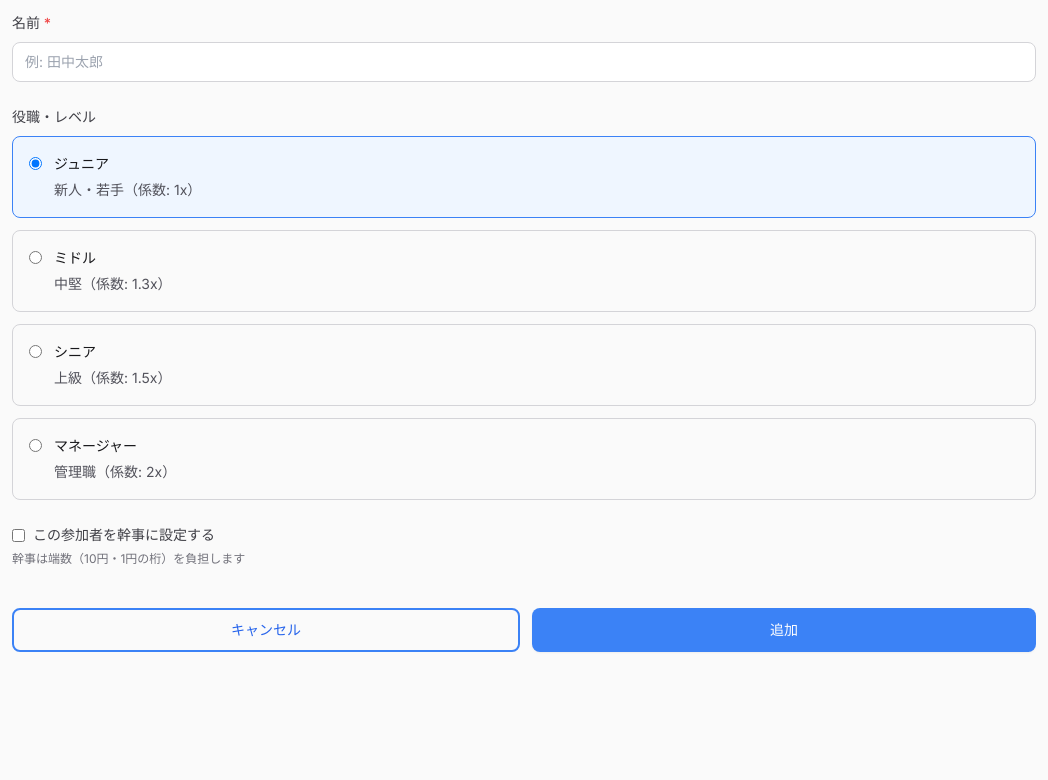
Test: AddParticipantForm › TC009: 重複名前でエラーを表示
In the field labelled "名前 *": {"x": 524, "y": 62} [12, 42, 1036, 82], type "田中太郎"
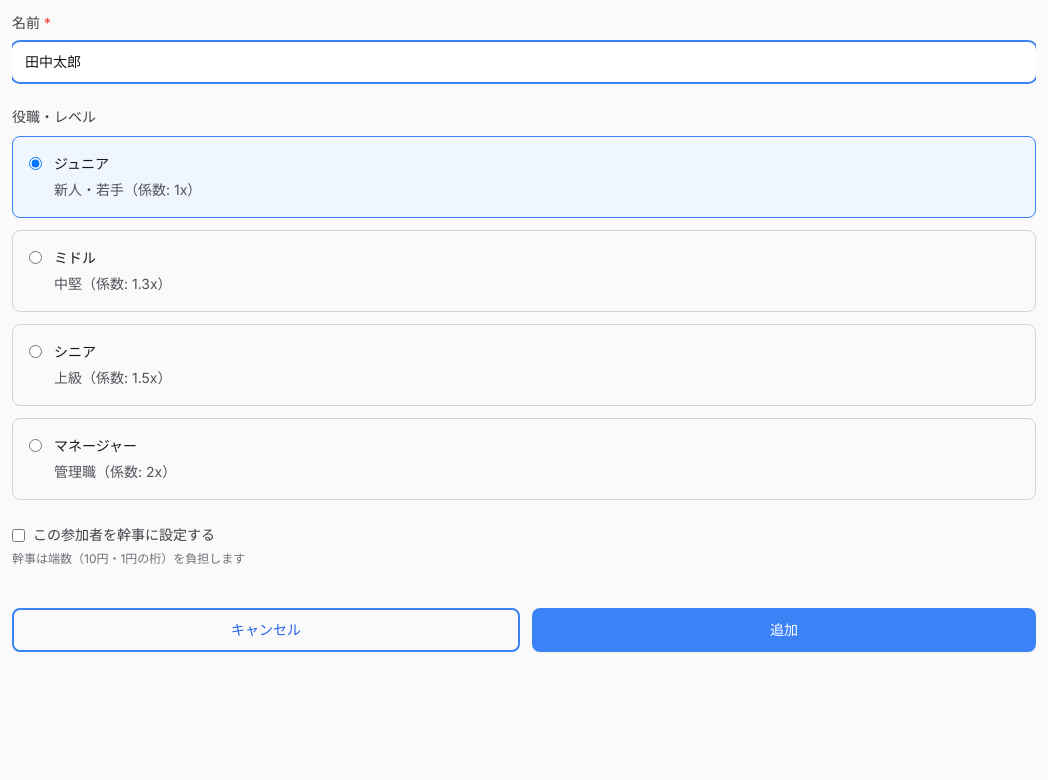
Click the button "追加": {"x": 784, "y": 630} [532, 608, 1036, 652]
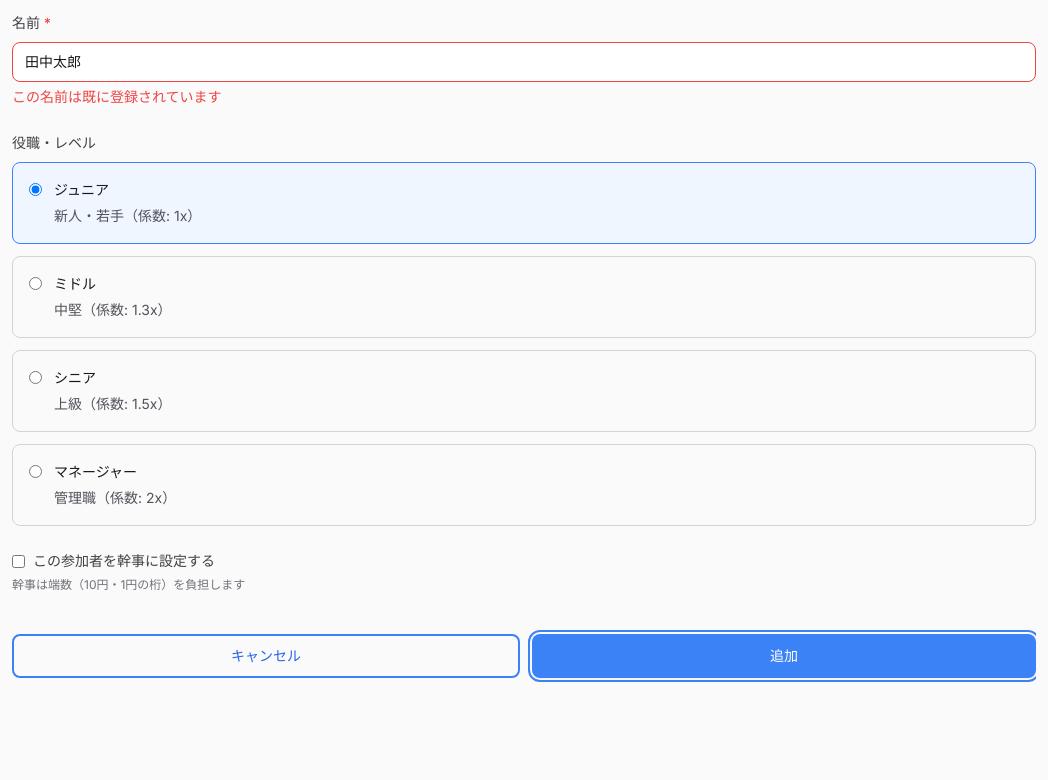
Check: the text "この名前は既に登録されています" is shown, box [12, 88, 222, 105]
